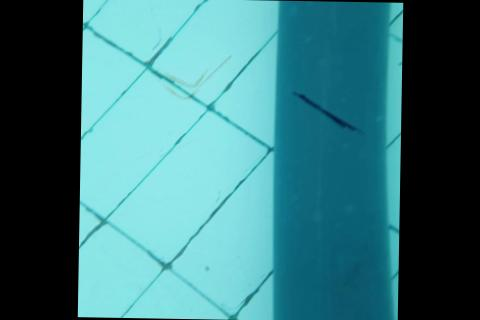keretakan: (291, 90, 366, 133)
